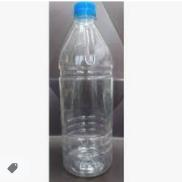plastic_bottle: (57, 2, 115, 176)
